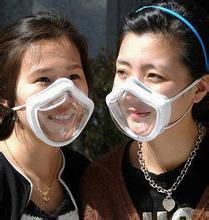OK: (19, 60, 92, 133), (113, 59, 180, 132)
